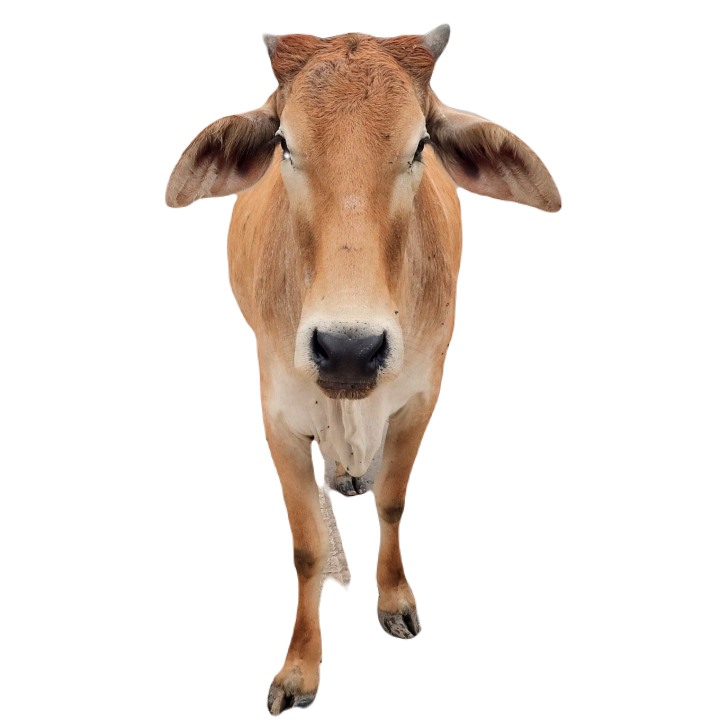Cow: (164, 27, 563, 719)
